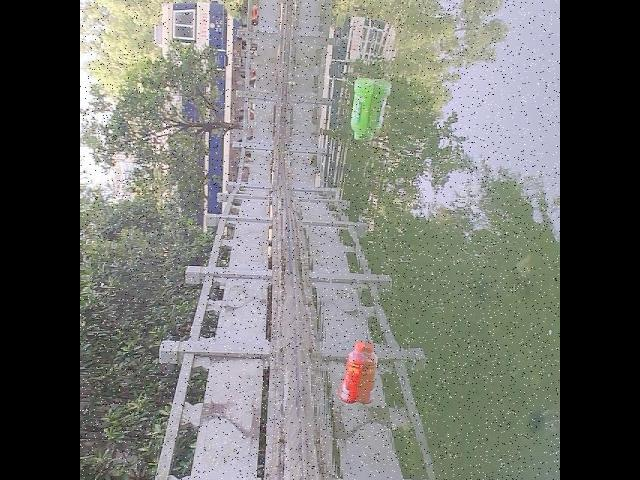Bottle: (336, 339, 374, 412), (349, 68, 383, 148)
